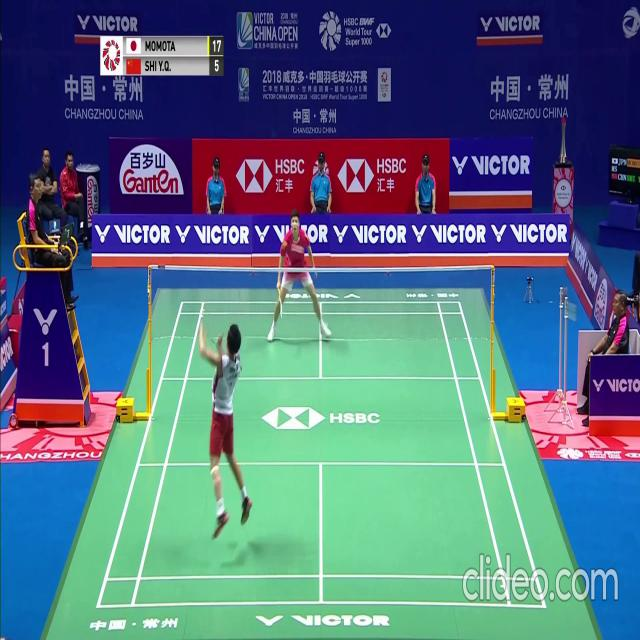Shuttlecock: (296, 245, 301, 252)
